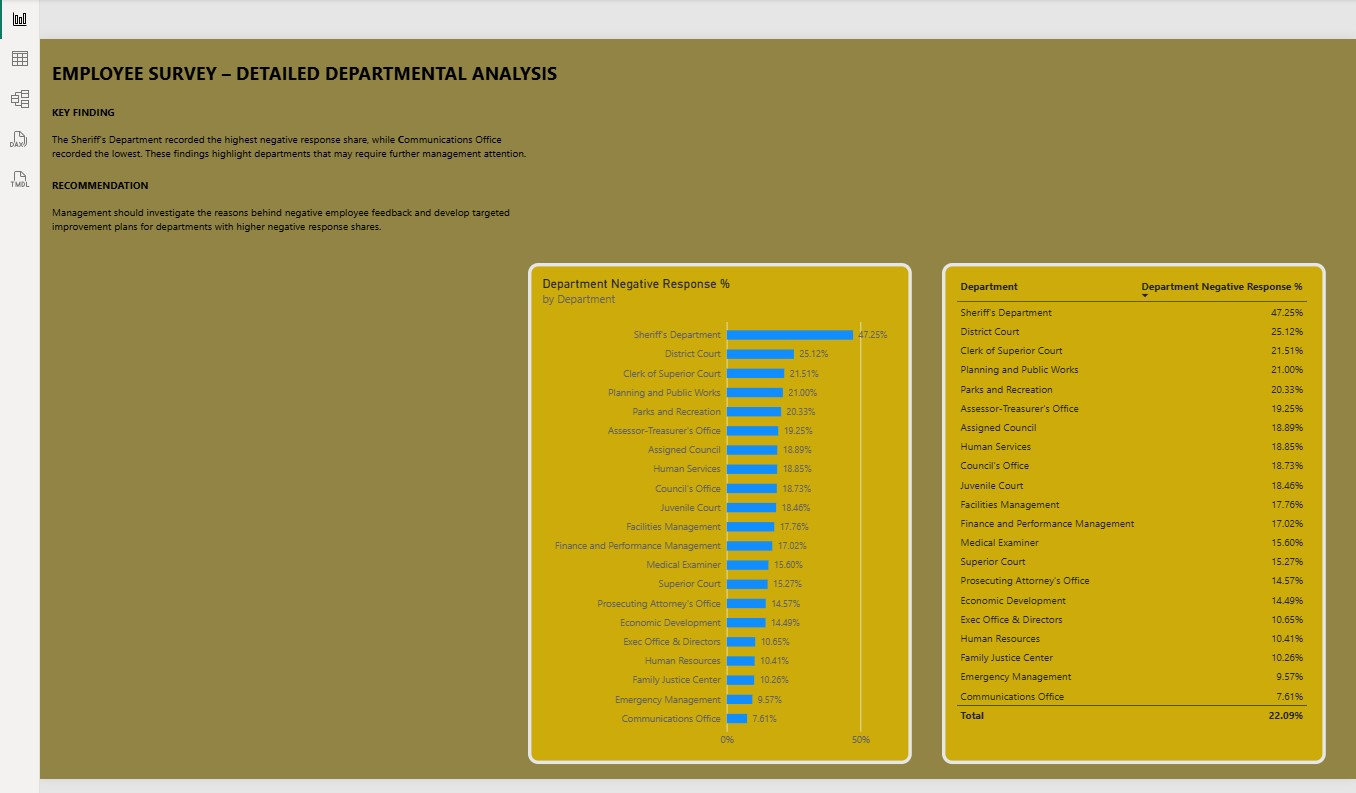

The page's visual inventory and layout, read from the dashboard file:
{"tool":"powerbi","page":{"name":"Page 2 Detailed Departmental Analysis.","canvas":[1920,1080],"ordinal":1},"visuals":[{"type":"tableEx","fields":{"Values":["HR Survey Responses.Department","Data Dictionary.Department Negative Response %"]},"box":[1316,326.8,560.2,730.9],"z":0},{"type":"clusteredBarChart","fields":{"Category":["HR Survey Responses.Department"],"Y":["Data Dictionary.Department Negative Response %"]},"box":[712,326.8,560.2,730.9],"z":1},{"type":"textbox","box":[17.5,30.6,1034.4,161.9],"z":2},{"type":"textbox","box":[1316,31,560,162],"z":4},{"type":"textbox","box":[17.5,96.3,694.5,213],"z":5},{"type":"textbox","box":[17.5,202.8,679.9,275.7],"z":6}]}

Visuals, with their boxes on the page's 1920x1080 design canvas (x1, y1, x2, y2). These are canvas units, not pixel positions in the 1356x793 screenshot, which may show the page scaled, cropped or inside an application window:
tableEx - HR Survey Responses.Department x Data Dictionary.Department Negative Response %: left=1316, top=327, right=1876, bottom=1058
clusteredBarChart - HR Survey Responses.Department x Data Dictionary.Department Negative Response %: left=712, top=327, right=1272, bottom=1058
textbox: left=18, top=31, right=1052, bottom=192
textbox: left=1316, top=31, right=1876, bottom=193
textbox: left=18, top=96, right=712, bottom=309
textbox: left=18, top=203, right=697, bottom=478
